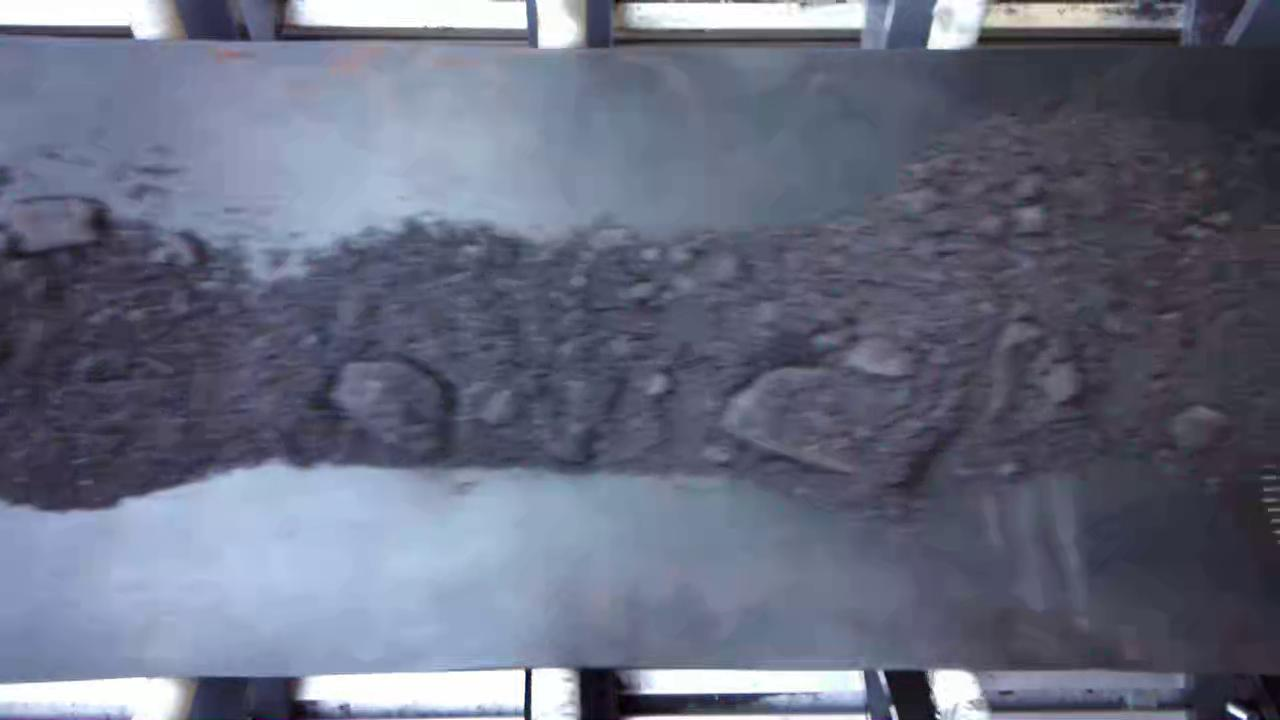conveyor: (1, 51, 1280, 667)
